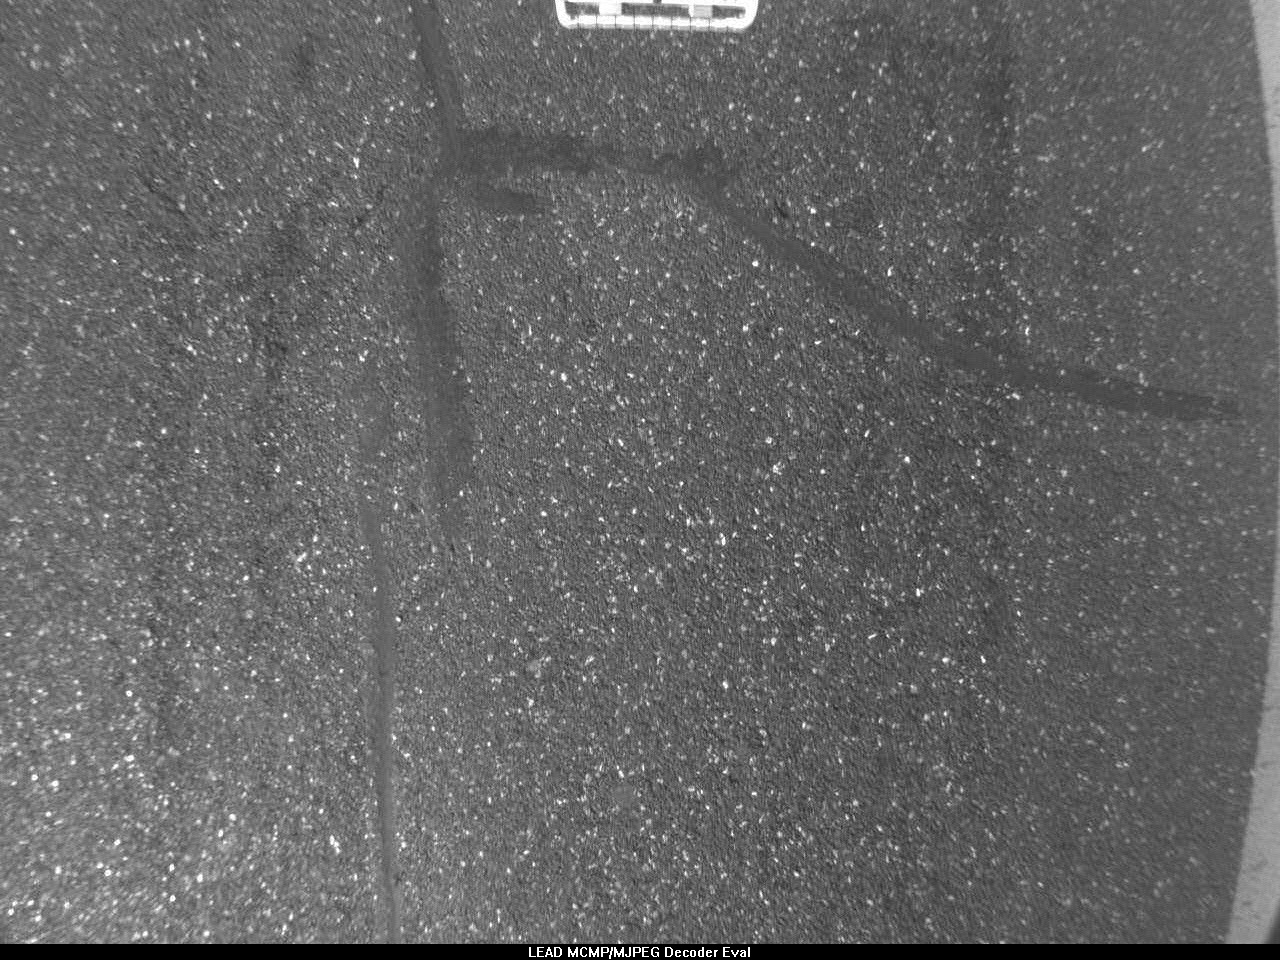sealed: (425, 107, 1242, 421)
